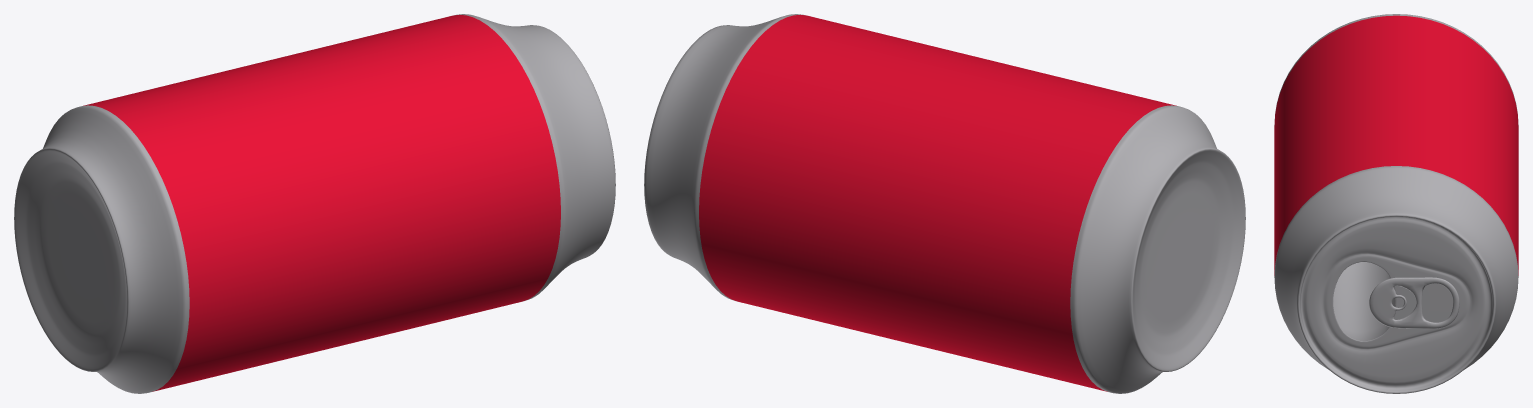
Rendered from Soda_Can_Red.fbx.
3 renders of one model, left to right at view 1: azimuth 30°, elevation 25°; view 2: azimuth 150°, elevation 25°; view 3: azimuth 270°, elevation 25°, orthographic. The views are drawn at different scales.
Parts seen in each view (by area): view 1: Plane; view 2: Plane; view 3: Plane.
Part boxes in pixels (bbox=[...]): Plane: bbox=[14, 14, 615, 393]; Plane: bbox=[644, 14, 1245, 393]; Plane: bbox=[1274, 14, 1518, 393].
Bounding box in the file's own units: 419 × 220 × 220.
